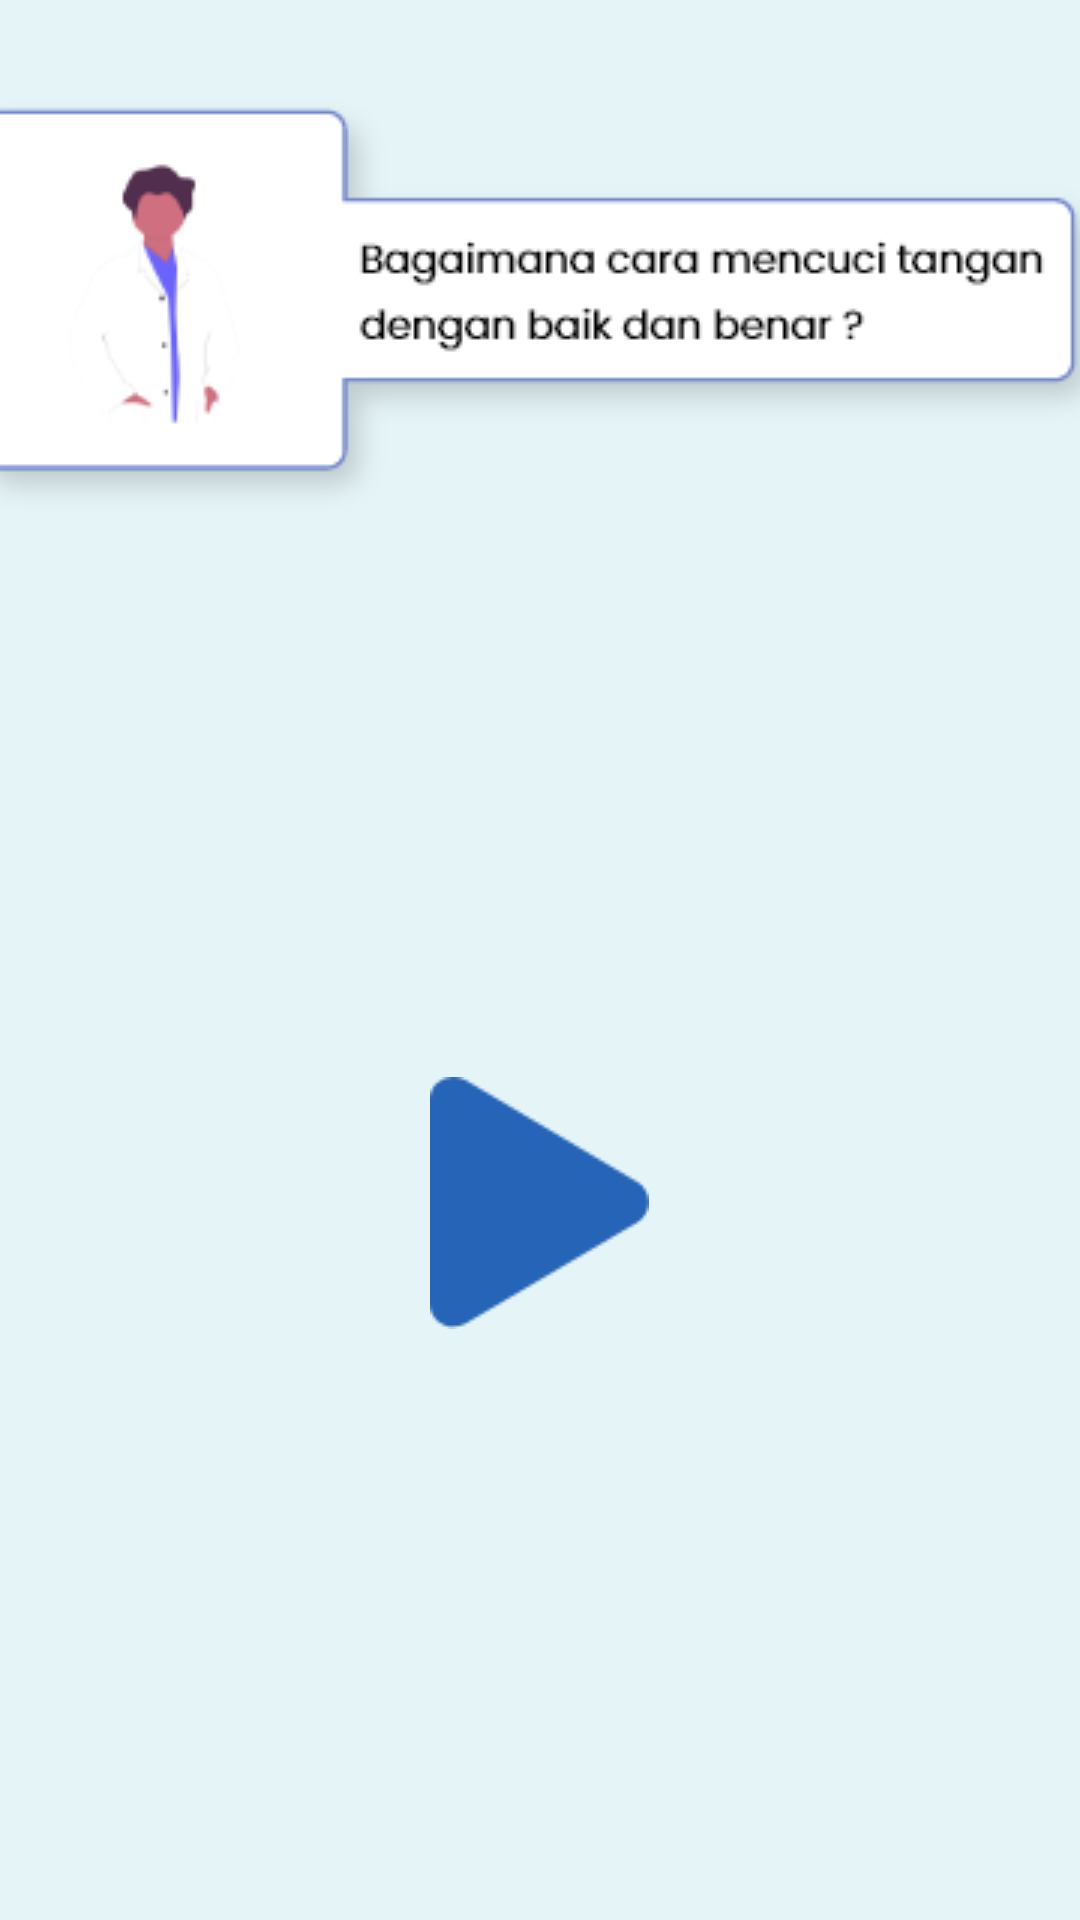

Locate icon controls on the screen. Image size 1080*1920, boxes as (x1, y1, x2, y2).
Button Start: (430, 1077, 649, 1329)
